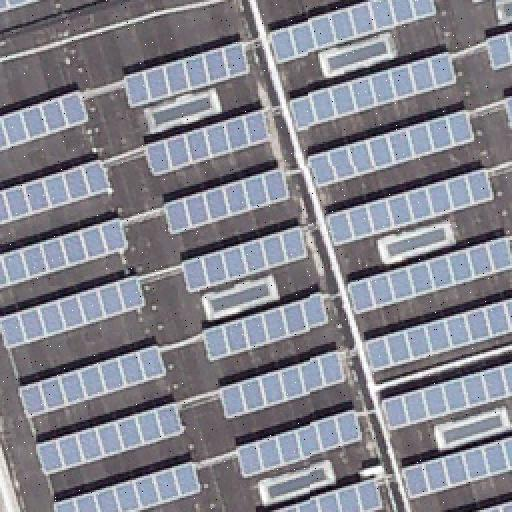solar-panel: (288, 50, 460, 134), (308, 108, 476, 192), (327, 168, 497, 248), (345, 236, 511, 316), (0, 273, 148, 351), (37, 400, 187, 476), (17, 342, 167, 418), (364, 296, 512, 372), (267, 0, 437, 64), (0, 215, 132, 289), (217, 348, 351, 420), (234, 406, 366, 478), (141, 109, 275, 179), (203, 290, 333, 362), (163, 166, 293, 238), (179, 225, 309, 295), (384, 361, 512, 431), (125, 41, 251, 111), (54, 460, 202, 512), (400, 434, 512, 502), (0, 158, 112, 226), (0, 87, 90, 153), (271, 476, 385, 512), (484, 31, 512, 73), (472, 497, 512, 511), (0, 1, 40, 15), (504, 93, 512, 131), (472, 1, 488, 7)
